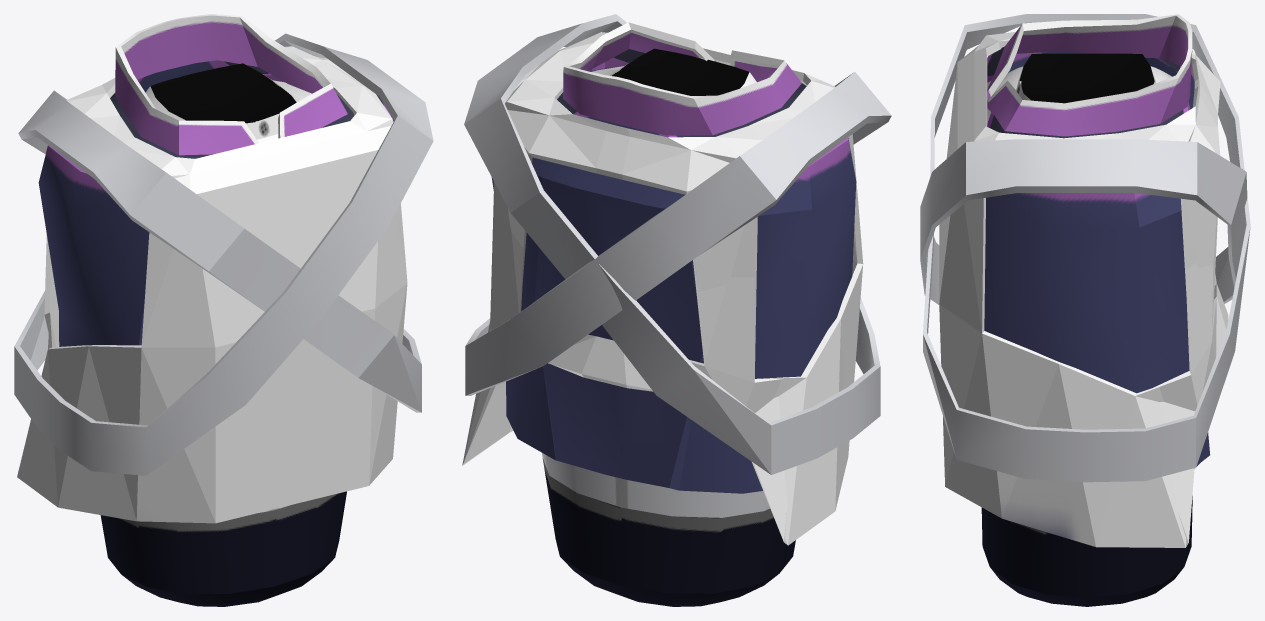
The model's file is sapperBody.obj.
The picture shows the model from 3 angles, left to right: view 1: azimuth 30°, elevation 25°; view 2: azimuth 150°, elevation 25°; view 3: azimuth 270°, elevation 25°; orthographic projection. The views are drawn at different scales.
Parts seen in each view (by area): view 1: sapperTorsoUpload.002; view 2: sapperTorsoUpload.002; view 3: sapperTorsoUpload.002.
Boxes of the visible parts, box(x1,y1,x2,y2) form: sapperTorsoUpload.002: box(14, 14, 433, 606); sapperTorsoUpload.002: box(462, 14, 891, 606); sapperTorsoUpload.002: box(920, 14, 1250, 606).
Size of the model in its own units: 1.16 by 1.74 by 0.9551.
3 materials, 3 textured.
